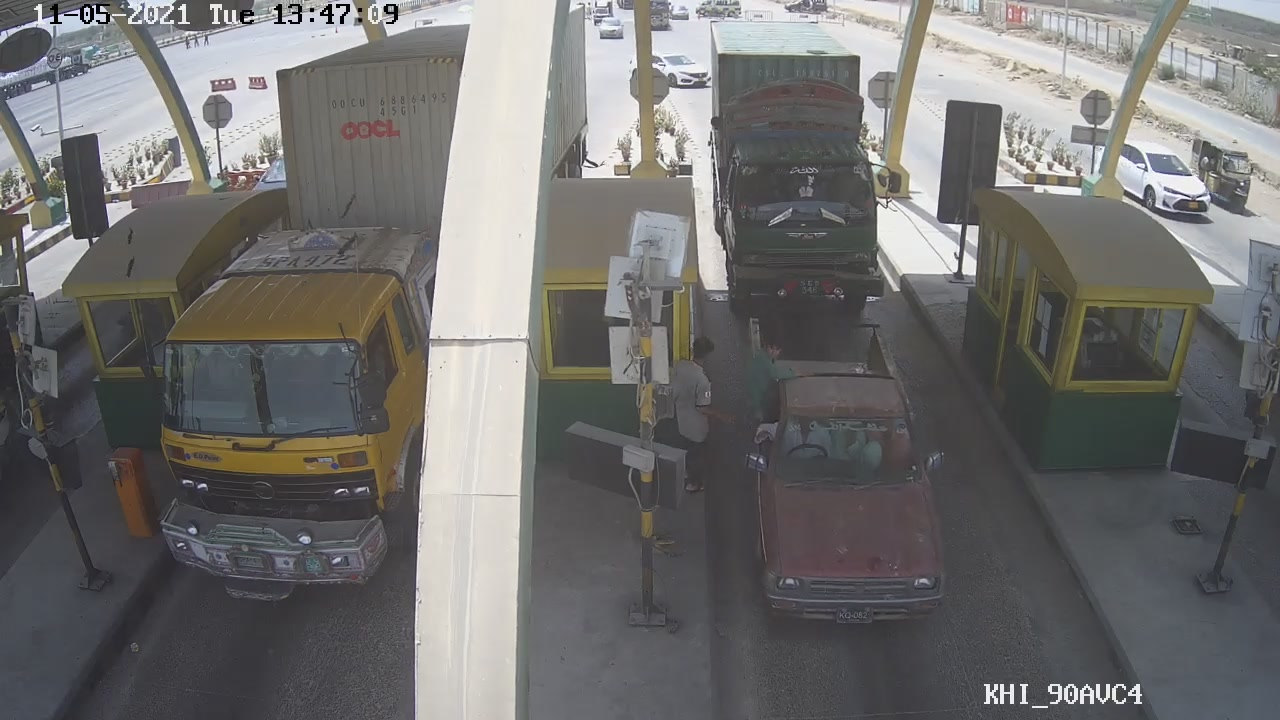F1: (737, 311, 949, 633)
